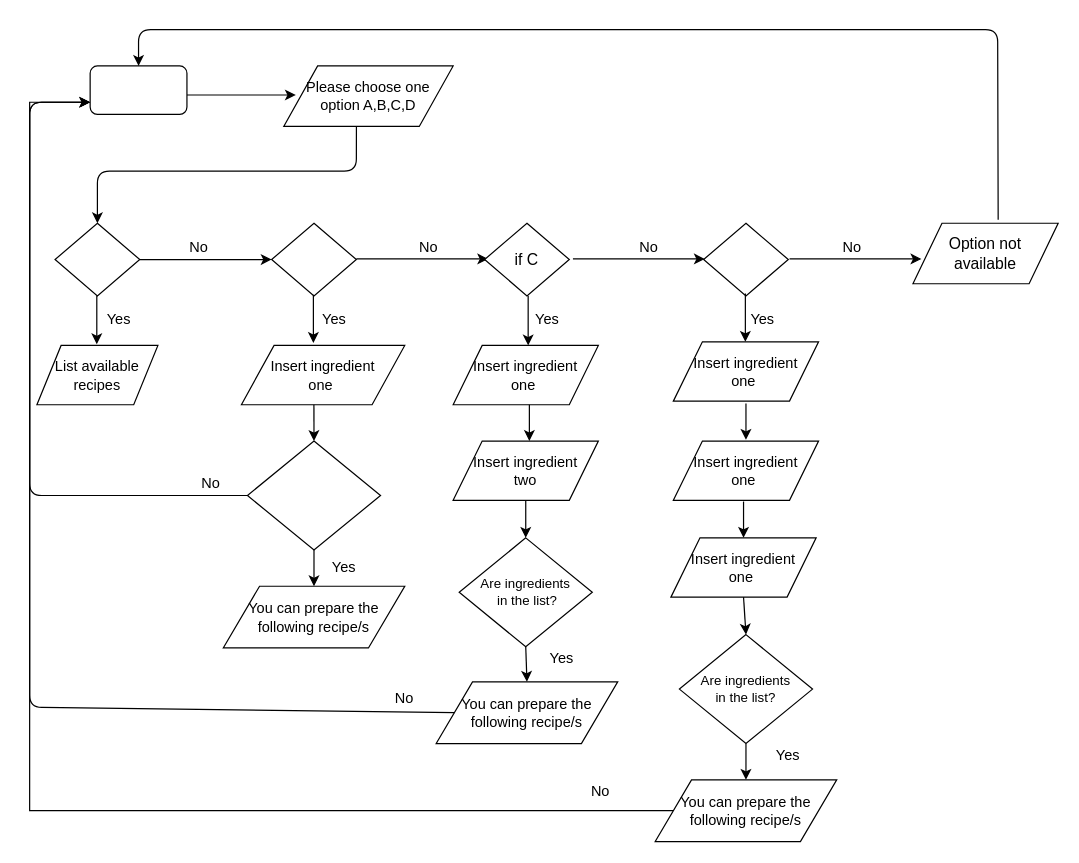
Some shapes in this 1079 by 863 pixel diagram are drawn without their labels. The centre of each missing label's shape, as x and y in pixels:
if A: (97,259)
if B: (313,259)
if D: (745,259)
Is ingredient in the list?: (313,495)
Start: (138,89)
